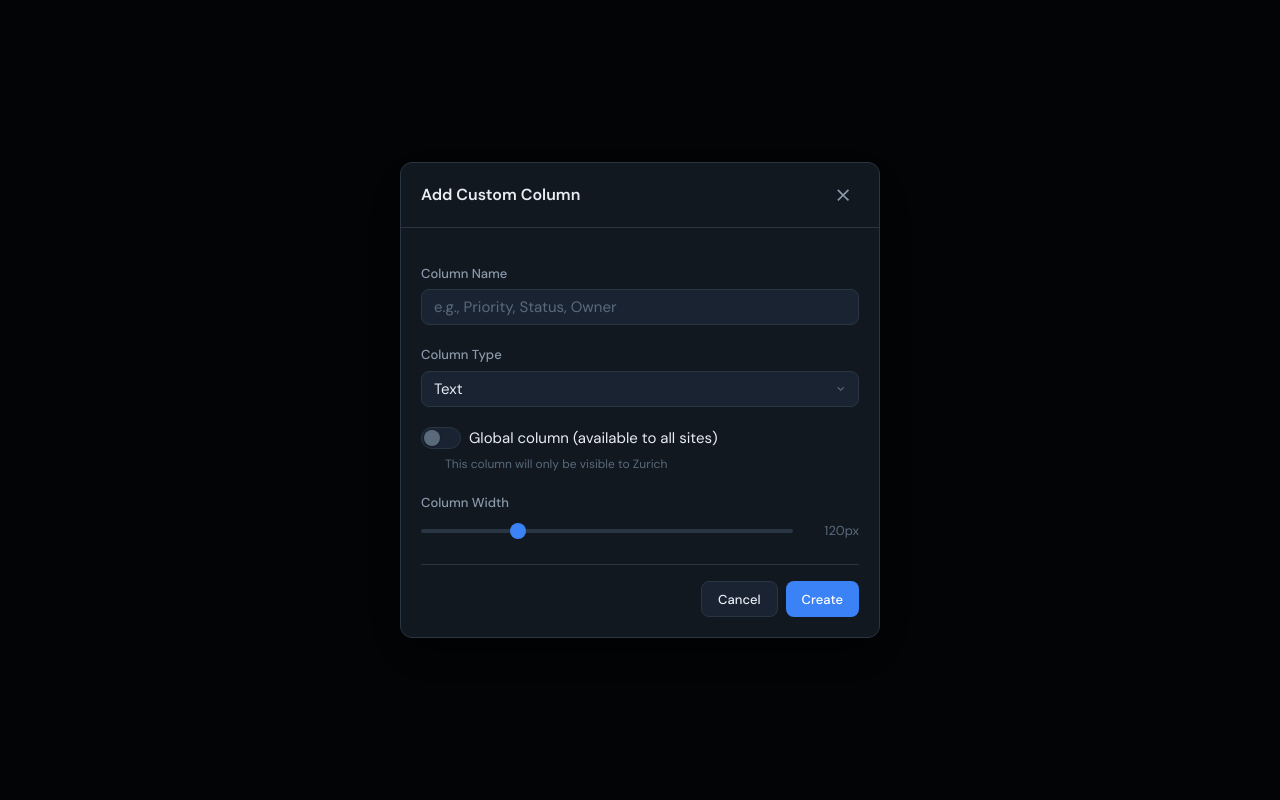
Test case: CustomColumnModal create › requires a name
Expected: the heading "Add Custom Column" is shown, [421,185,580,205]
Click the button "Create". click: (822,599)
box: [786,581,859,617]
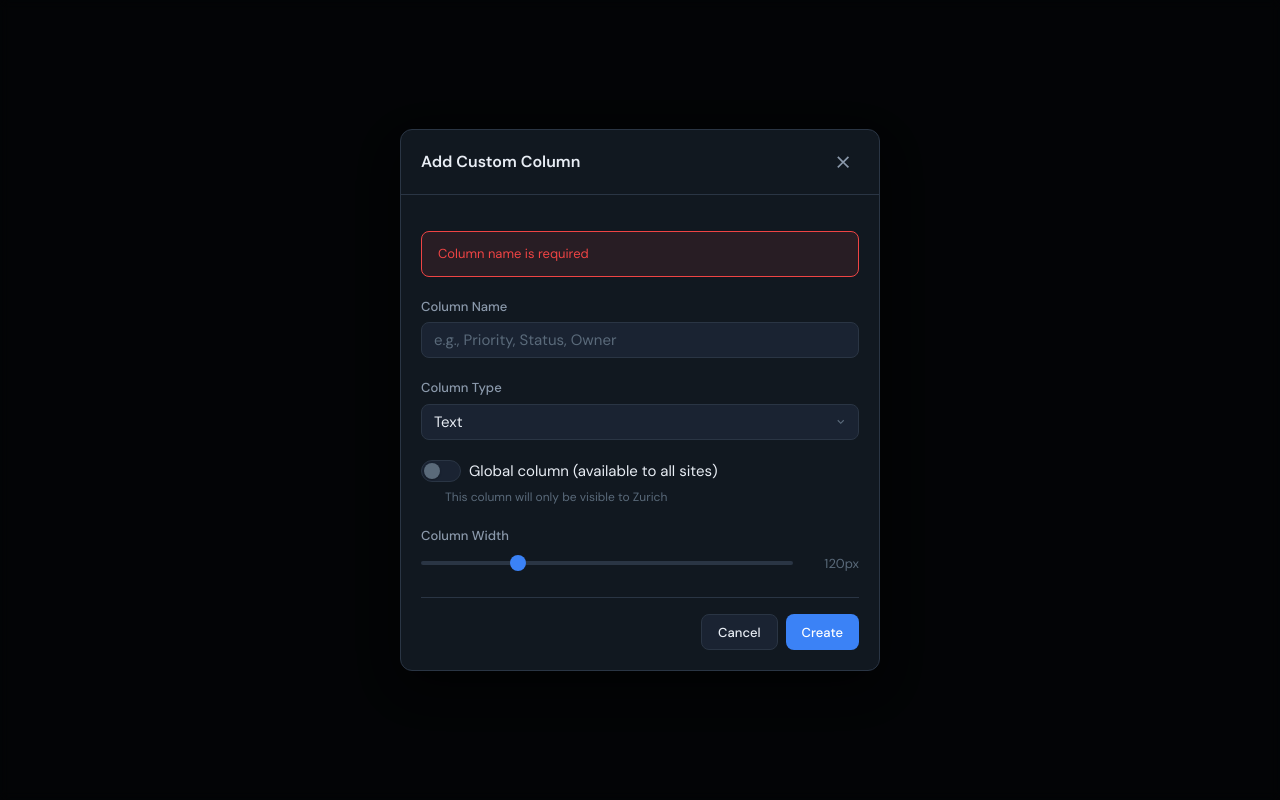
Expected: the text "Column name is required" is shown, [421,231,859,276]
